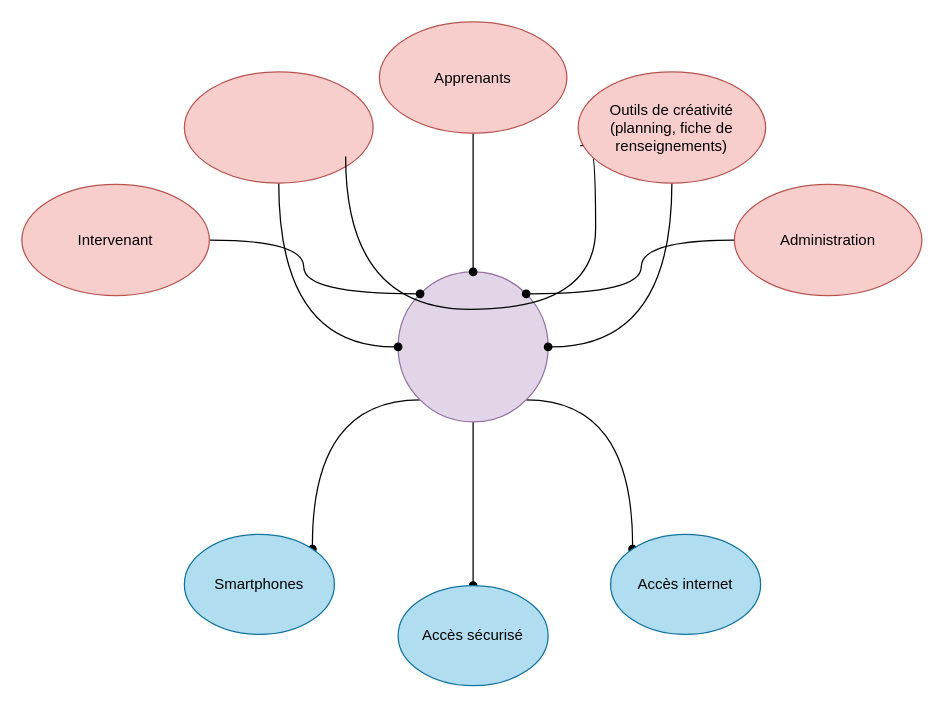
Some shapes in this 944 by 708 pixel diagram are drawn without their labels. Here are the shapes that lost their labels. From the top down, the centre of each, then its label:
(x=278, y=127): Signature éléctronique
(x=472, y=346): Application
